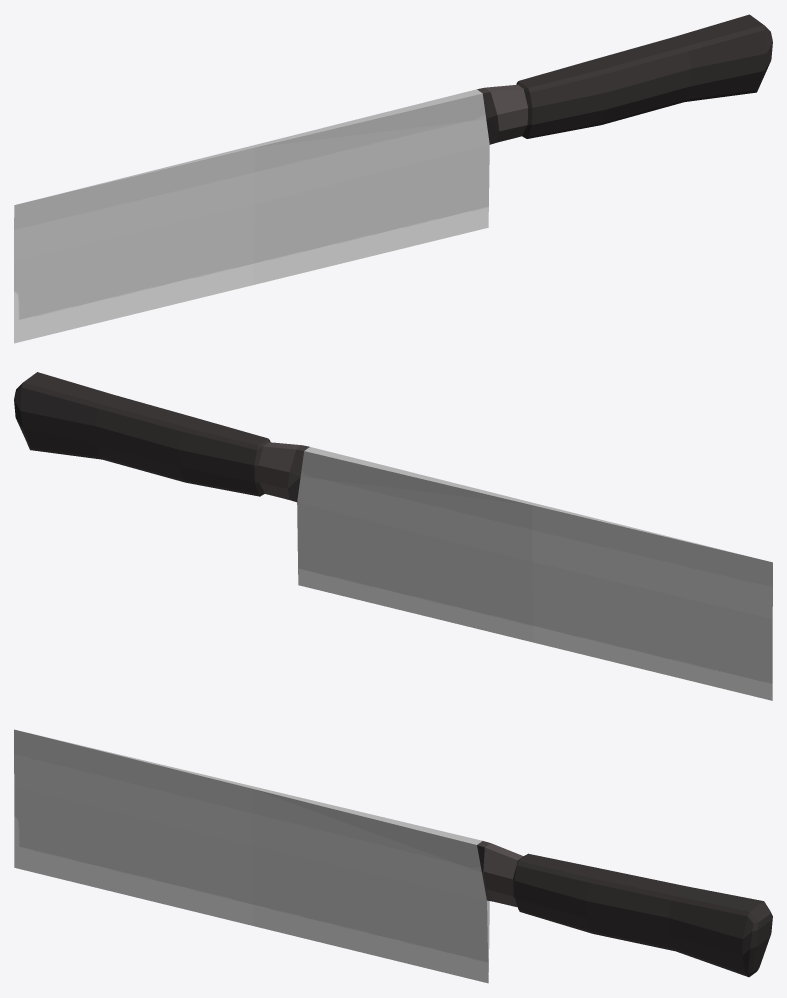
Rendered from knife3.fbx.
3 renders of one model, top to bottom at view 1: azimuth 30°, elevation 25°; view 2: azimuth 150°, elevation 25°; view 3: azimuth 330°, elevation 25°, orthographic.
Visible parts, largest first — view 1: knife3; view 2: knife3; view 3: knife3.
Boxes of the visible parts, x1=… form: knife3: x1=14, y1=14, x2=772, y2=343; knife3: x1=14, y1=372, x2=772, y2=700; knife3: x1=14, y1=729, x2=772, y2=983.
Size of the model in its own units: 0.8346 by 0.1513 by 0.0453.
